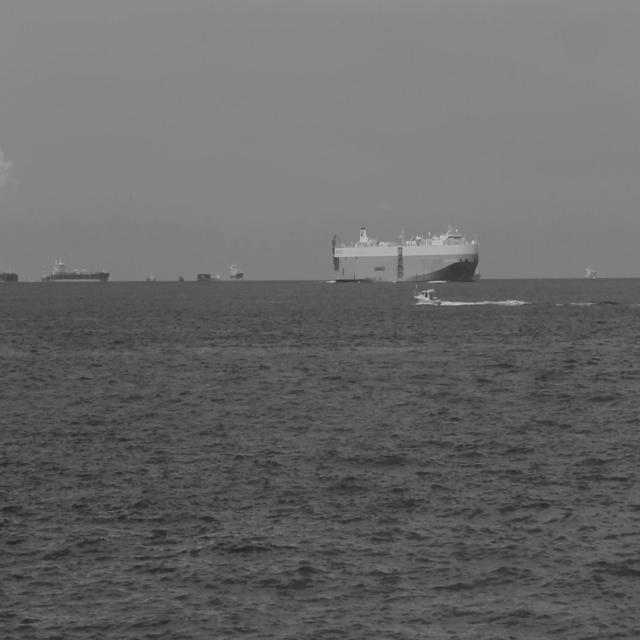ship: (330, 222, 480, 284), (50, 252, 110, 284), (413, 283, 442, 308), (0, 265, 20, 283), (228, 260, 244, 282), (38, 266, 50, 284), (196, 270, 212, 282), (473, 260, 481, 282), (176, 273, 184, 282)
